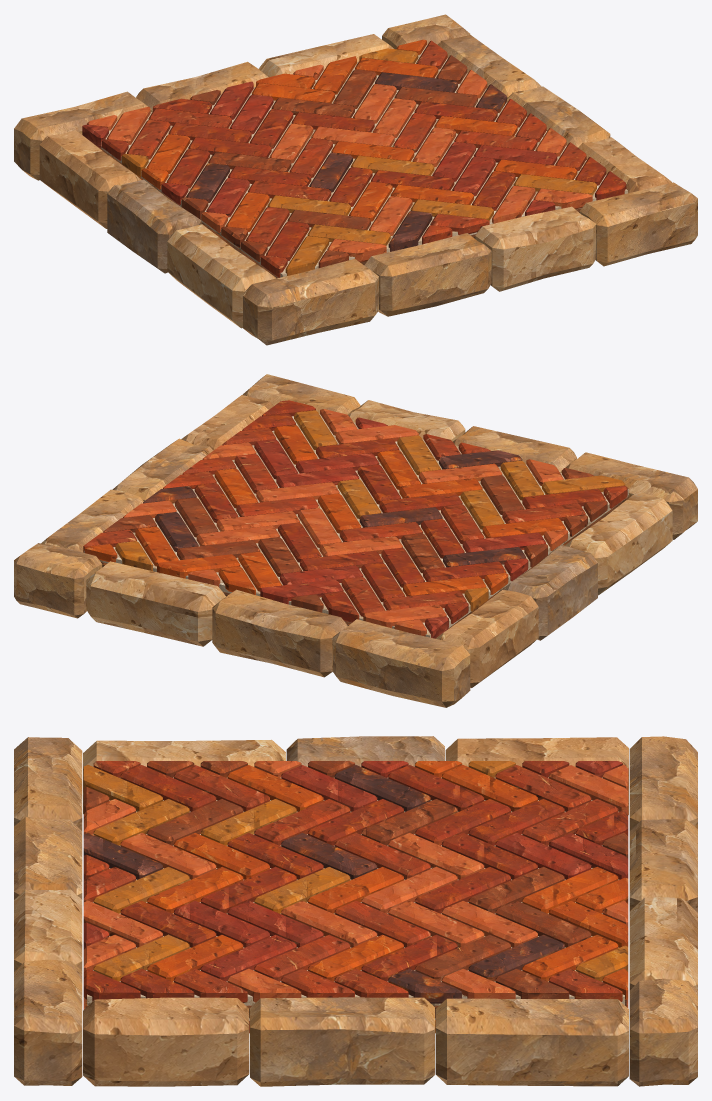
Rendered from floor__clay_brick.glb.
3 views of the same model, one above another, from view 1: azimuth 30°, elevation 25°; view 2: azimuth 150°, elevation 25°; view 3: azimuth 270°, elevation 25° (orthographic). The views are drawn at different scales.
Visible parts, largest first — view 1: model; view 2: model; view 3: model.
Part boxes in pixels (x1,y1,x2,y2): model: (14, 14, 697, 345); model: (14, 374, 697, 707); model: (14, 736, 697, 1086).
Size of the model in its own units: 1.99 by 0.2368 by 1.99.
Materials: 15 (15 with a texture image).
